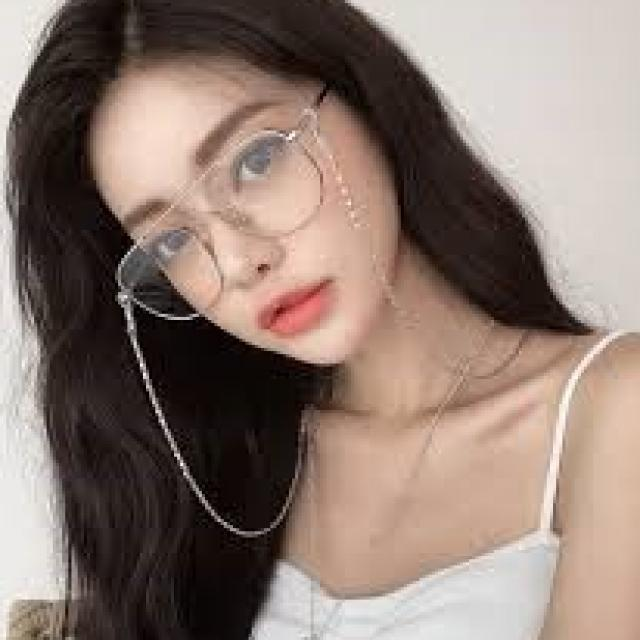Glasses: (109, 72, 348, 330)
